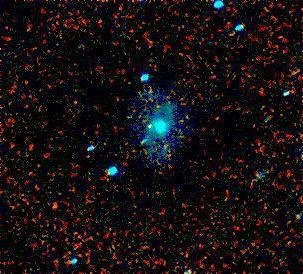star: (135, 112, 165, 142)
